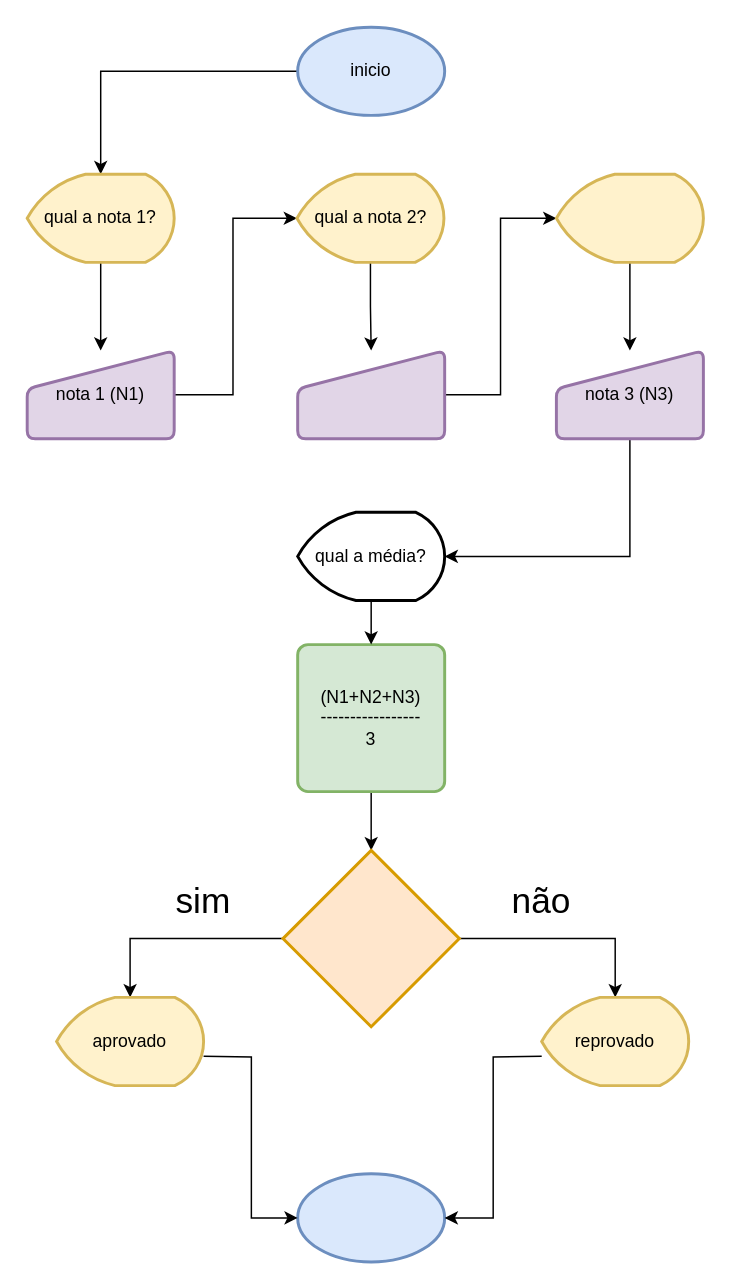
The diagram is 729 pixels wide and 1288 high, and some of its shapes have lost their labels. The centre of each missing label's shape, as x and y in pixels:
"fim" goes at point (370, 1217).
"nota 2 (N2)" goes at point (370, 394).
"qual a nota 3?" goes at point (629, 217).
"É maior ou igual a 5?" goes at point (370, 938).
